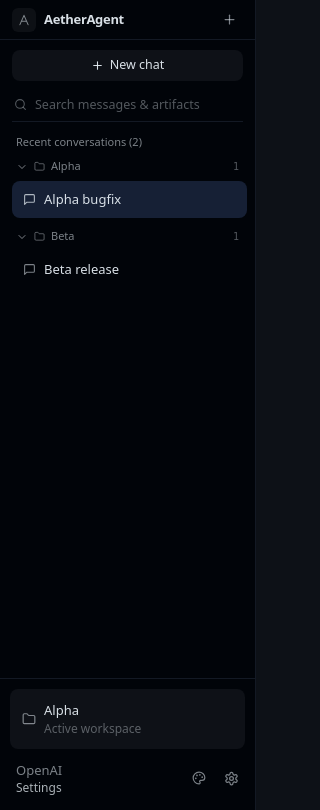
Test: Fase 2 Shell Architecture › groups recent sessions by workspace and allows collapsing each project group
Expected: the text "Alpha bugfix" is shown, [44, 190, 121, 208]
Expected: the text "Beta release" is shown, [44, 260, 119, 278]
Step 1. Click the button "Alpha 1" → click(128, 167), box [8, 154, 247, 179]
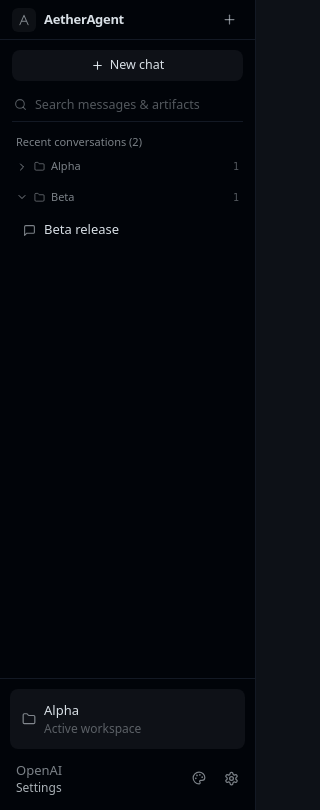
Expected: the text "Beta release" is shown, [44, 220, 119, 238]
Result: the button "Alpha 1" is collapsed
Result: the button "Alpha bugfix" is gone
Step 2. Click the button "Alpha 1" → click(128, 167), box [8, 154, 247, 179]
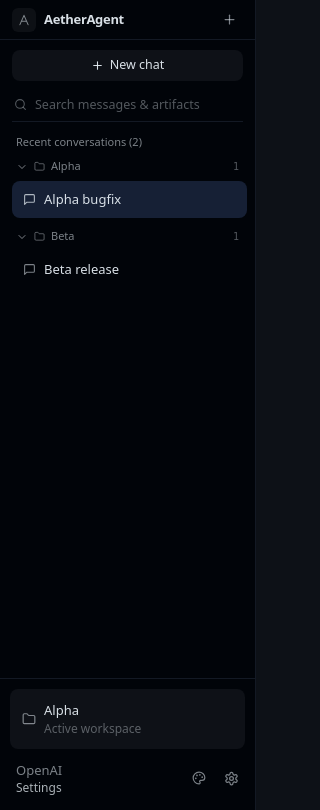
Result: the button "Alpha 1" is expanded at [8, 154, 247, 179]
Result: the text "Alpha bugfix" is shown at [44, 190, 121, 208]
